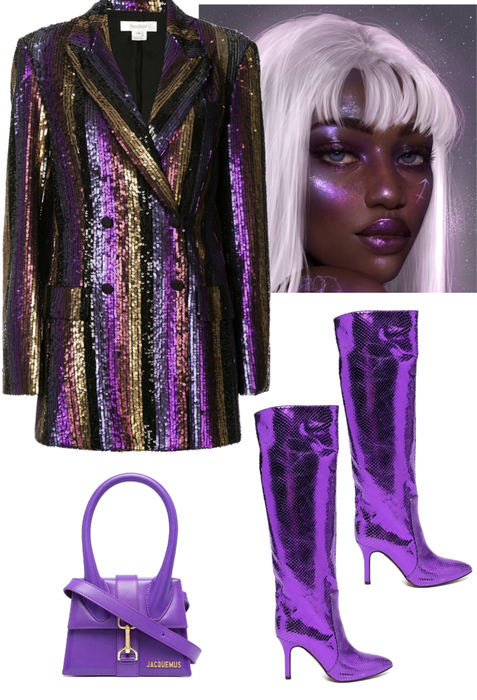ботинки: (239, 289, 470, 697)
платье: (7, 9, 267, 467)
сумка: (38, 457, 214, 700)
